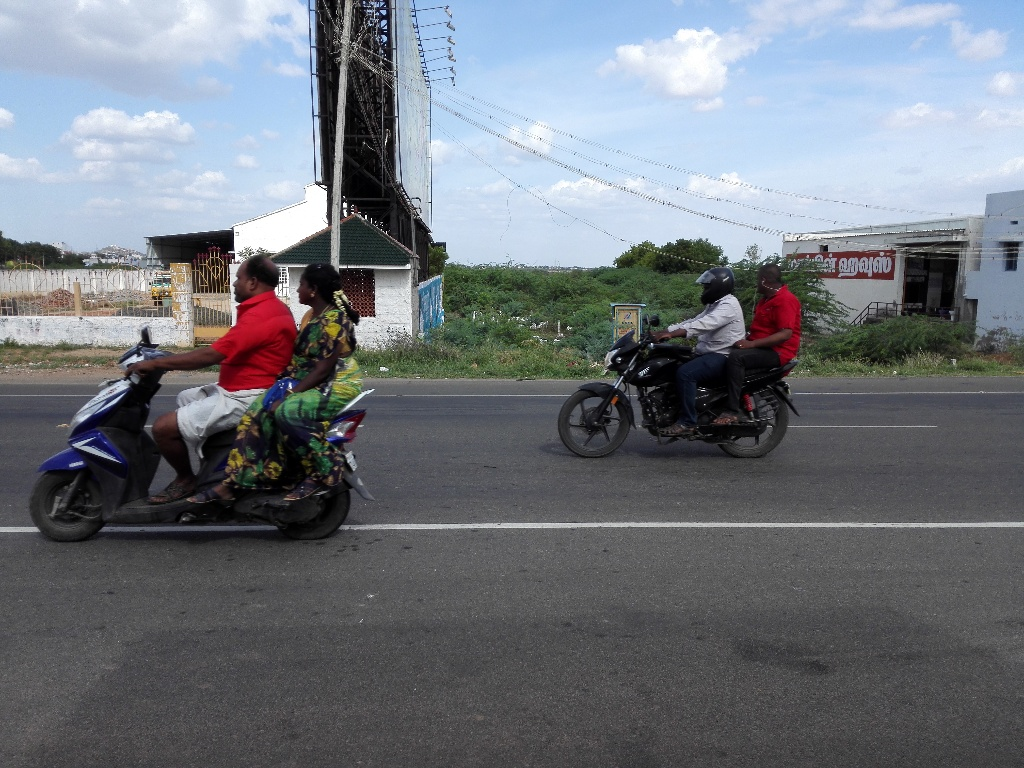biker: (14, 220, 405, 565), (543, 227, 827, 476)
helmet: (685, 257, 738, 315)
nohelmet: (220, 240, 286, 320), (291, 252, 347, 316), (750, 261, 790, 305)
